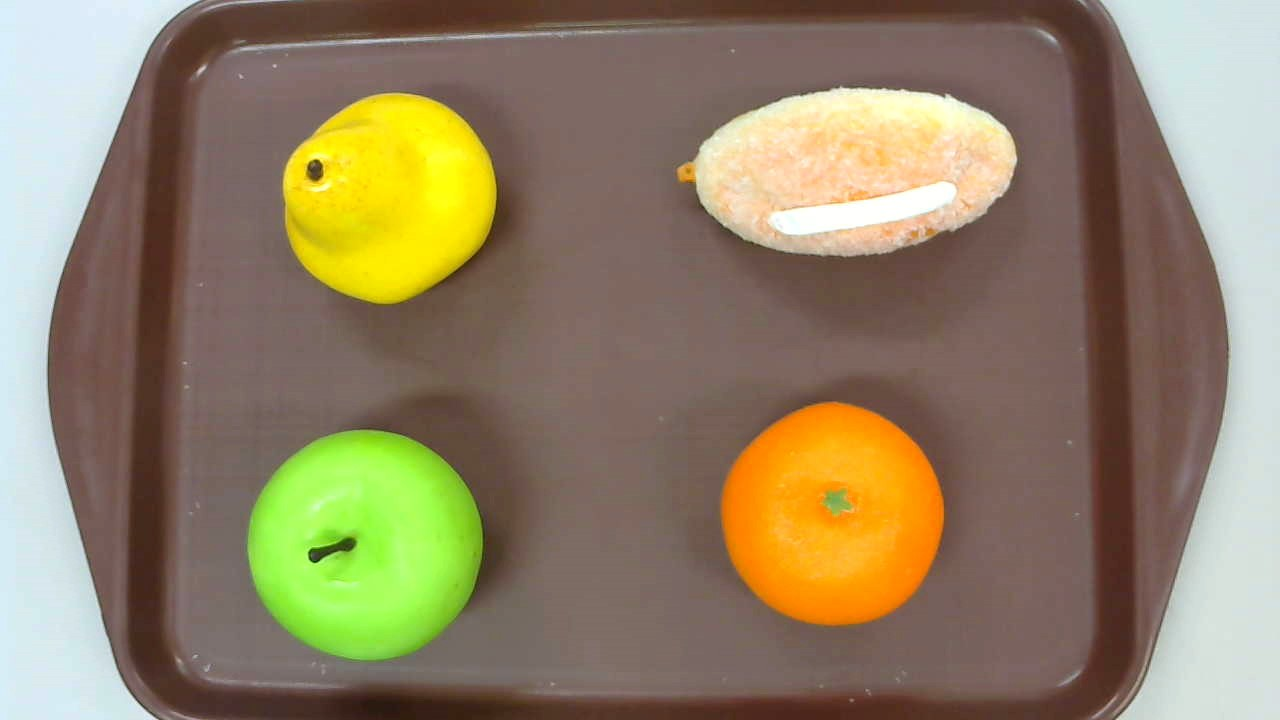coconut: (676, 86, 1017, 259)
green apple: (246, 430, 484, 660)
orange: (720, 401, 945, 625)
yellow pear: (282, 92, 497, 306)
